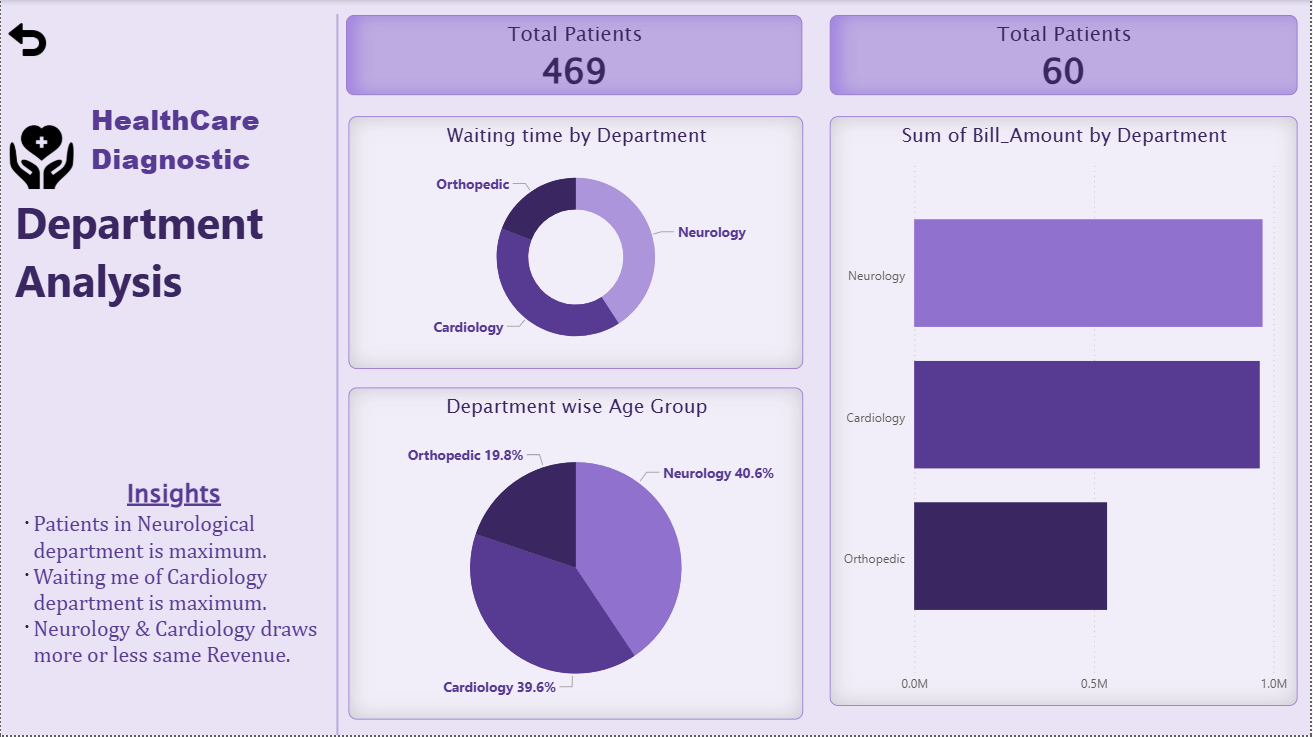

What the dashboard file says about the page in this screenshot:
{"tool":"powerbi","page":{"name":"Department Analysis","canvas":[1280,720],"ordinal":2},"visuals":[{"type":"card","title":"Total Patients","fields":{"Values":["CountNonNull(Cleaned_HealthCare_Data.Patient_ID)"]},"box":[338,15.1,446.7,78.5],"z":0},{"type":"textbox","box":[83.2,92.9,247,89.3],"z":1000},{"type":"image","box":[8.6,113.7,62.4,80.7],"z":2000},{"type":"donutChart","title":"Waiting time by Department","fields":{"Category":["Cleaned_HealthCare_Data.Department"],"Y":["Sum(Cleaned_HealthCare_Data.Wait_Time(min))"]},"box":[339.9,113.7,445.1,247],"z":7000},{"type":"pieChart","title":"Department wise Age Group","fields":{"Category":["Cleaned_HealthCare_Data.Department"],"Y":["CountNonNull(Cleaned_HealthCare_Data.Age_Group)"]},"box":[339.5,378.8,445.2,324.5],"z":8000},{"type":"textbox","box":[8.6,182.2,321.6,130.8],"z":9000},{"type":"textbox","box":[9.1,460.3,321.4,220.3],"z":10000},{"type":"card","title":"Total Patients","fields":{"Values":["Avg(Cleaned_HealthCare_Data.Wait_Time(min))"]},"box":[810.4,15.1,457.3,78.5],"z":10001},{"type":"barChart","fields":{"Category":["Cleaned_HealthCare_Data.Department"],"Y":["Sum(Cleaned_HealthCare_Data.Bill_Amount)"]},"box":[810.7,113.7,457.3,577.2],"z":10002},{"type":"image","box":[7.3,14.7,36.7,47.7],"z":10003},{"type":"shape","box":[223.6,13,210.6,707],"z":10004}]}

Visuals, with their boxes in screenshot pixels (x1, y1, x2, y2), scaled from the page's 1280x720 canvas onto the 1313x737 screenshot:
"Total Patients" card: region(347, 15, 805, 96)
textbox: region(85, 95, 339, 187)
image: region(9, 116, 73, 199)
"Waiting time by Department" donutChart: region(349, 116, 805, 369)
"Department wise Age Group" pieChart: region(348, 388, 805, 720)
textbox: region(9, 187, 339, 320)
textbox: region(9, 471, 339, 697)
"Total Patients" card: region(831, 15, 1300, 96)
barChart - Cleaned_HealthCare_Data.Department x Sum(Cleaned_HealthCare_Data.Bill_Amount): region(832, 116, 1301, 707)
image: region(7, 15, 45, 64)
shape: region(229, 13, 445, 736)
